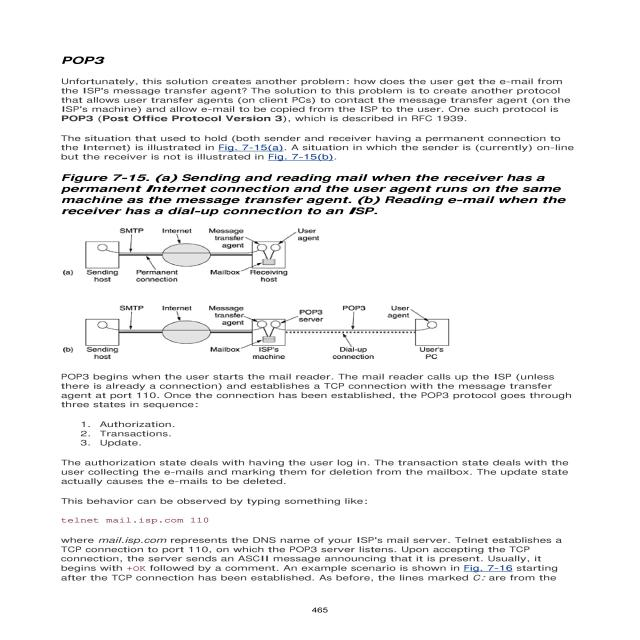diagram: (23, 161, 596, 365)
